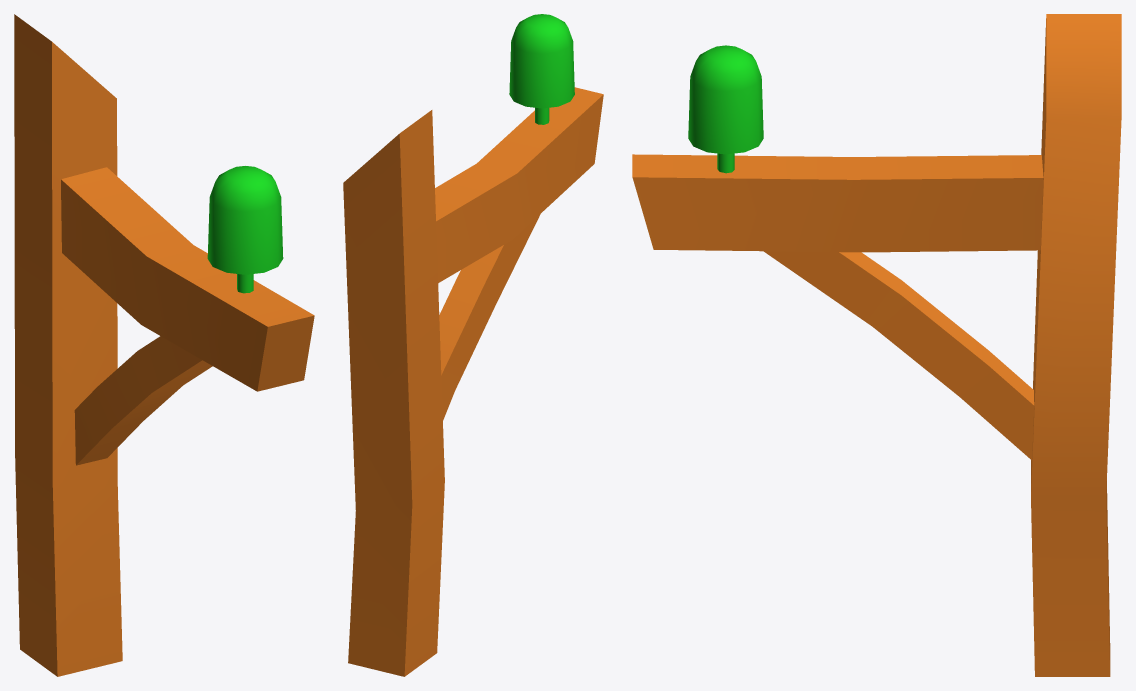
The model's file is ReseauElectrique_Bois_04.fbx.
The picture shows the model from 3 angles, left to right: view 1: azimuth 30°, elevation 25°; view 2: azimuth 150°, elevation 25°; view 3: azimuth 270°, elevation 25°; orthographic projection. The views are drawn at different scales.
Visible parts, largest first — view 1: ReseauElectrique_Bois_04_LOD0; view 2: ReseauElectrique_Bois_04_LOD0; view 3: ReseauElectrique_Bois_04_LOD0.
Part boxes in pixels (<box>): ReseauElectrique_Bois_04_LOD0: <box>14,14,314,676</box>; ReseauElectrique_Bois_04_LOD0: <box>343,14,603,676</box>; ReseauElectrique_Bois_04_LOD0: <box>632,14,1121,676</box>.
Size of the model in its own units: 22.41 by 185 by 130.
